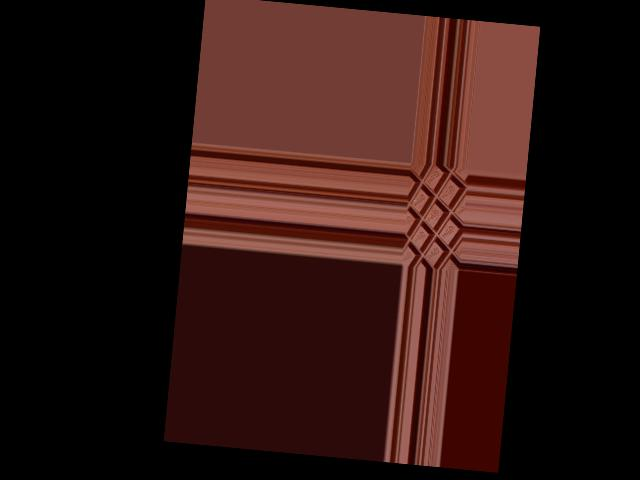chocolate: (403, 163, 469, 268)
